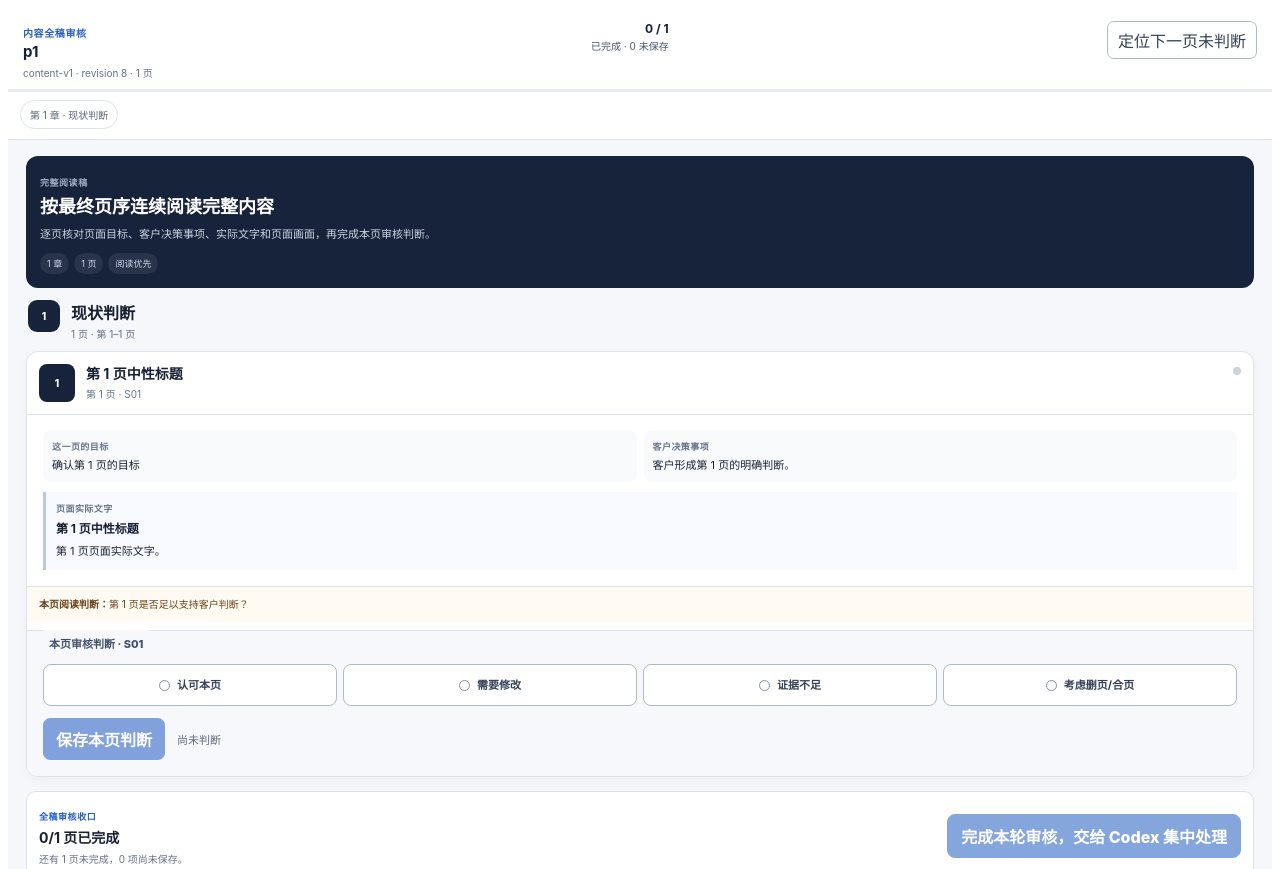
Test: ContentReviewViewModelController › rejects a malformed page-save result: wrong slide
The width and height of the screenshot is (1280, 869).
Click the radio button labelled "需要修改" at (490, 685), box [343, 664, 637, 706]
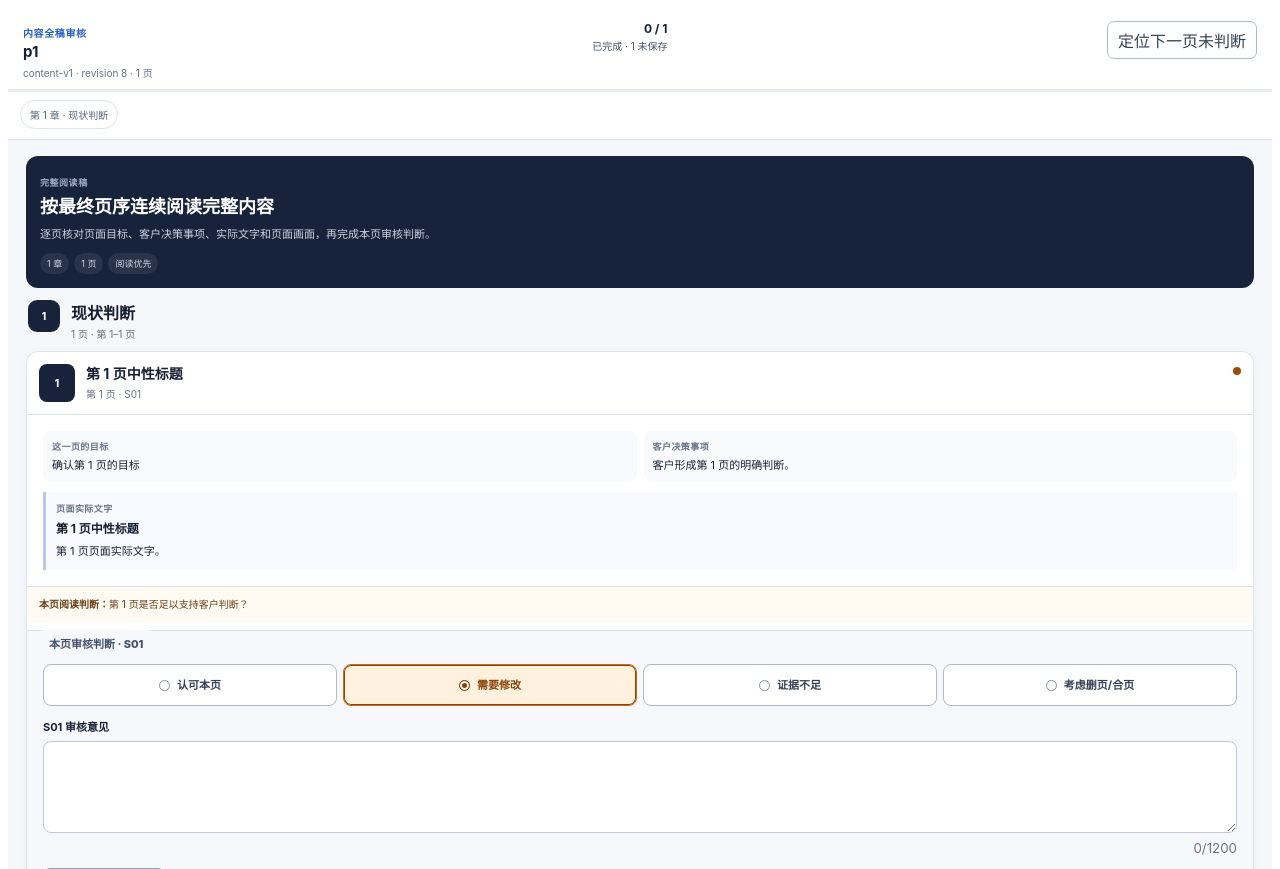
Type "不能丢失" into the text box labelled "S01 审核意见" at (640, 787), box [43, 741, 1237, 833]
(page scrolled)
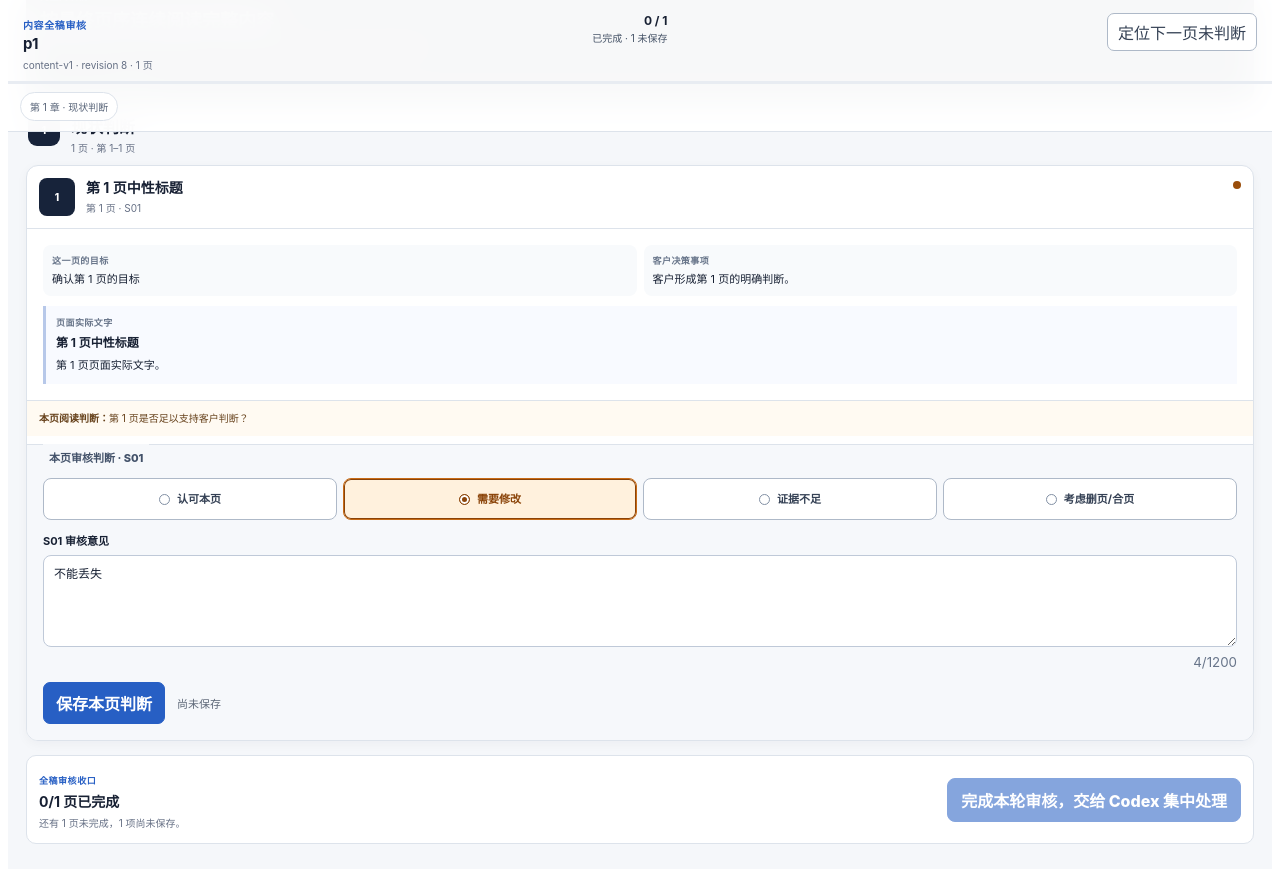
Click the button "保存本页判断" at (104, 703), box [43, 682, 165, 724]
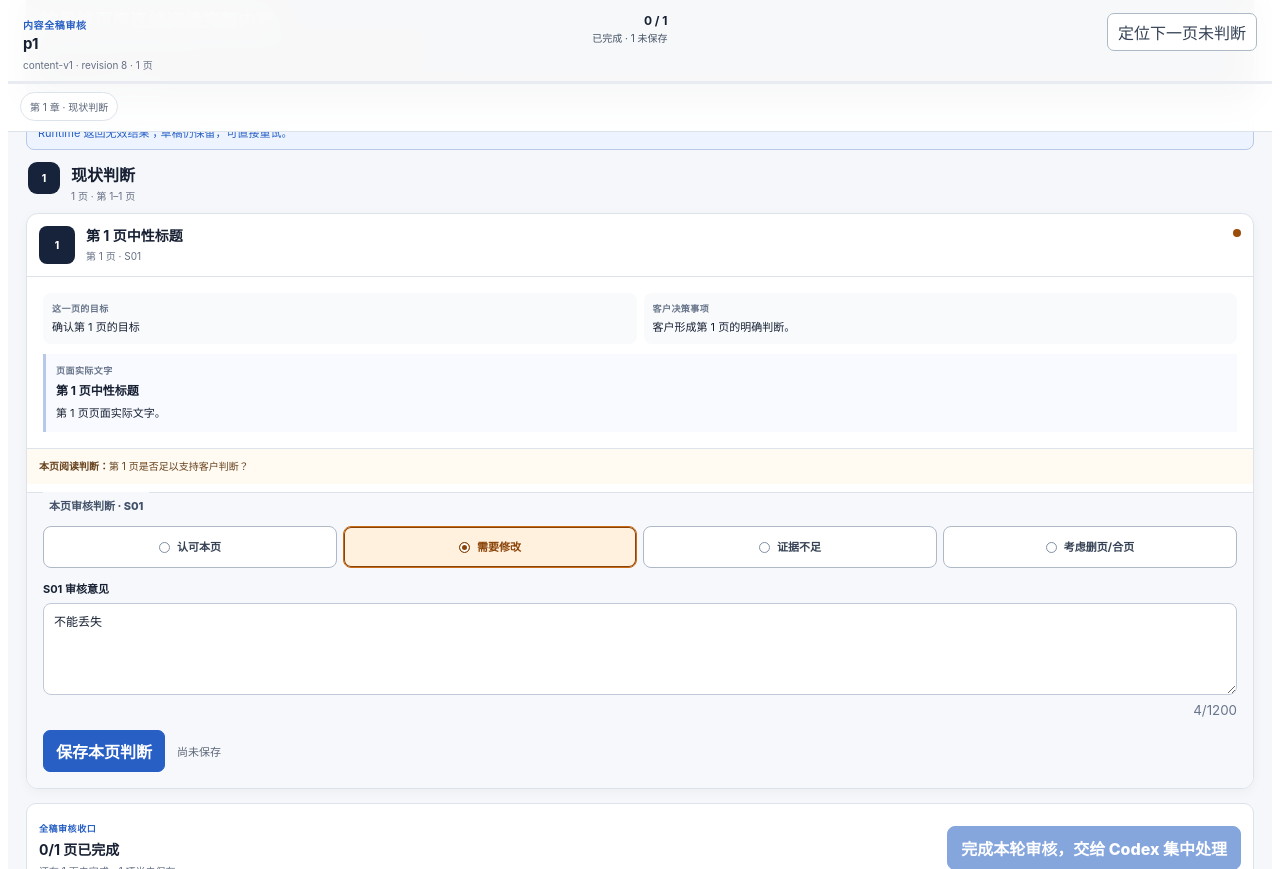
Check: the text "0 / 1" is shown, box [644, 13, 668, 28]
Check: the text "Runtime 返回无效结果；草稿仍保留，可直接重试。" is shown, box [26, 114, 1254, 150]
